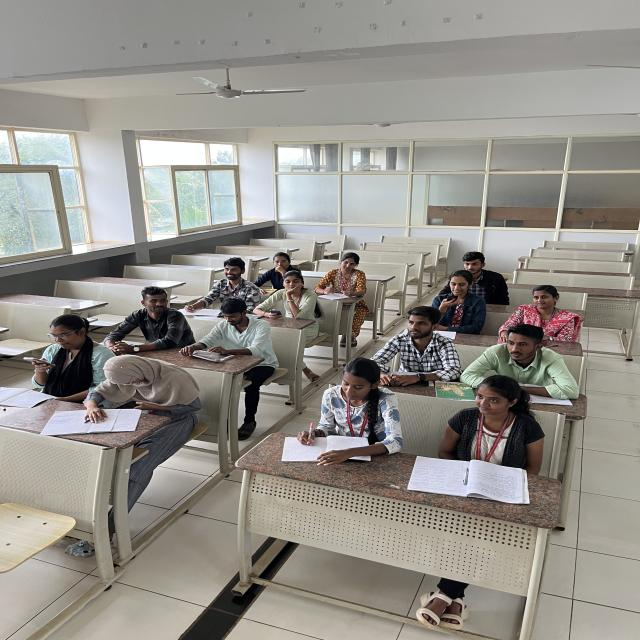Reading: (318, 251, 371, 306)
Using Phone: (79, 355, 210, 414), (29, 315, 107, 392), (426, 270, 492, 329), (258, 271, 319, 321)
Writing: (296, 358, 401, 458), (176, 248, 262, 315)
